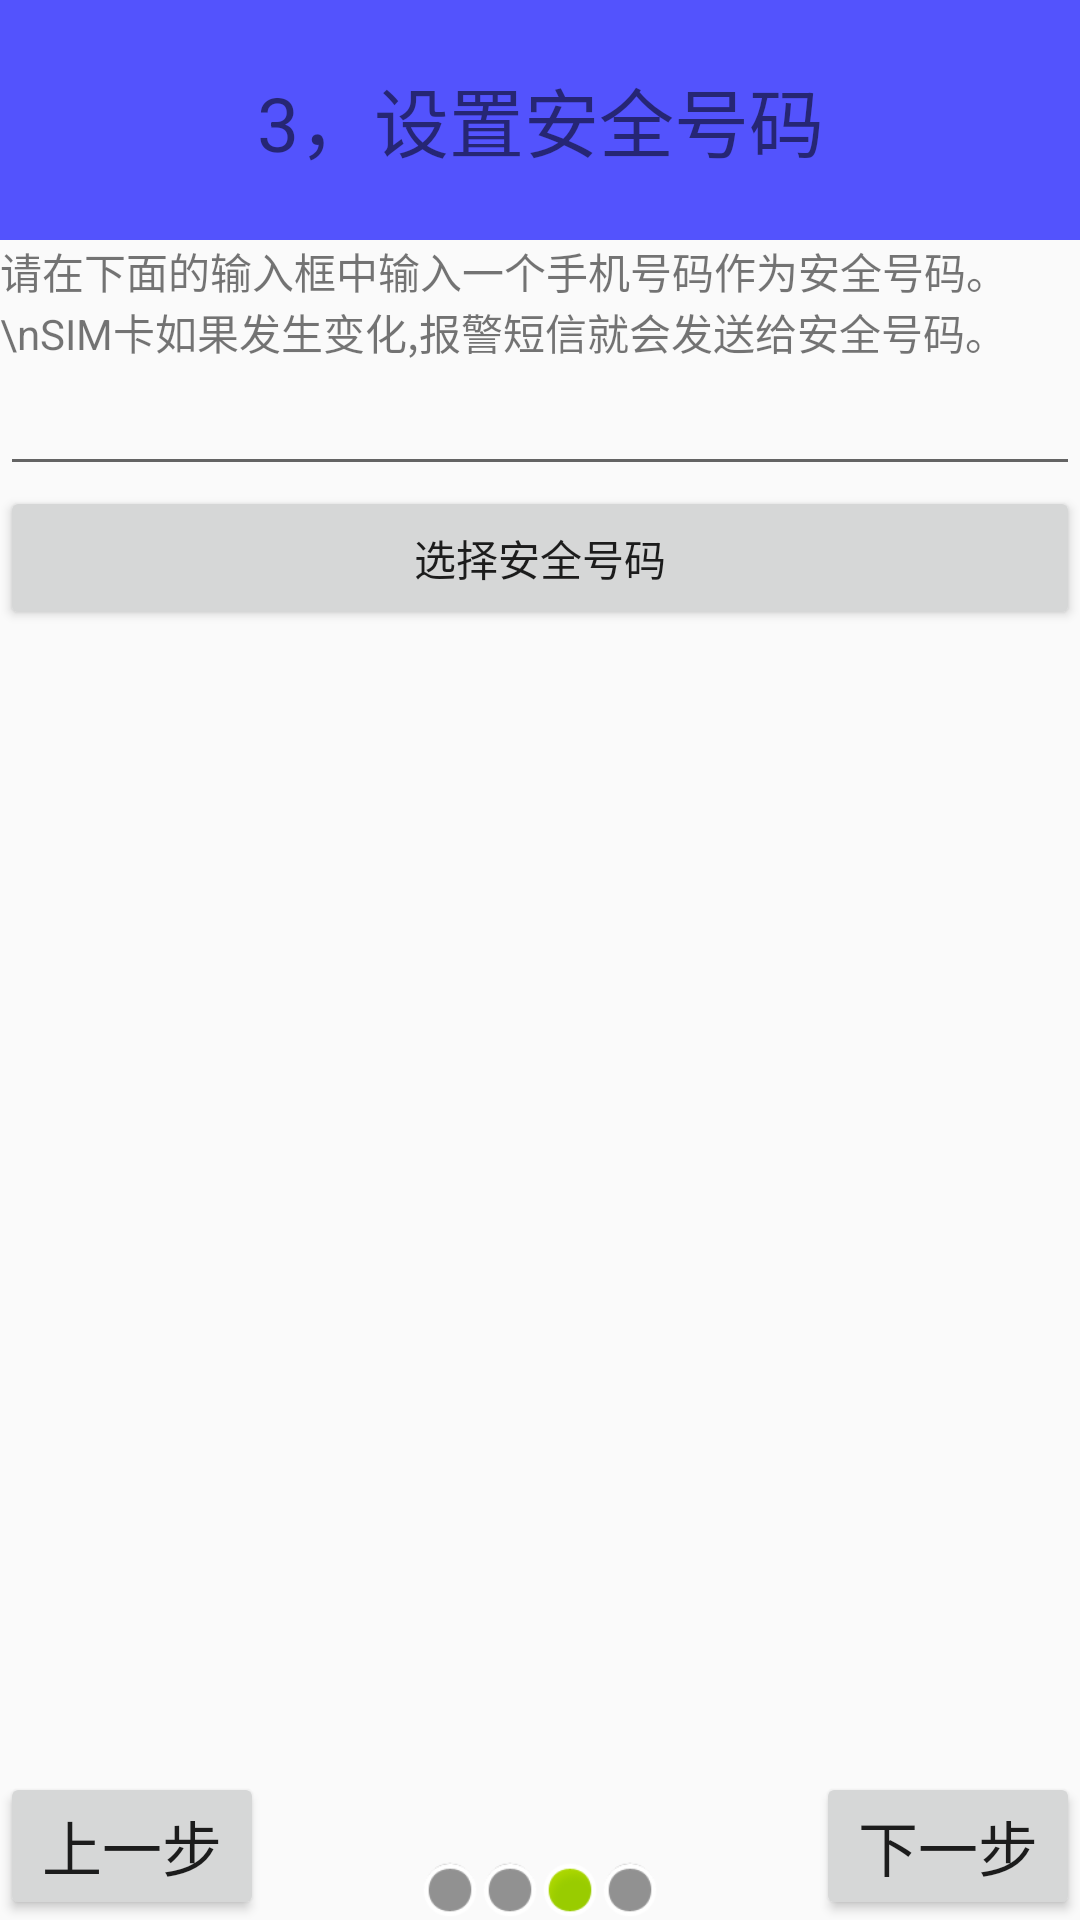

Icon bounding boxes for this 1080x1920 phone screenshot, format (x1, y1, x2, y2):
presence invisible: (428, 1864, 472, 1912), (488, 1864, 532, 1912), (608, 1864, 652, 1912)
presence online: (548, 1868, 592, 1912)
